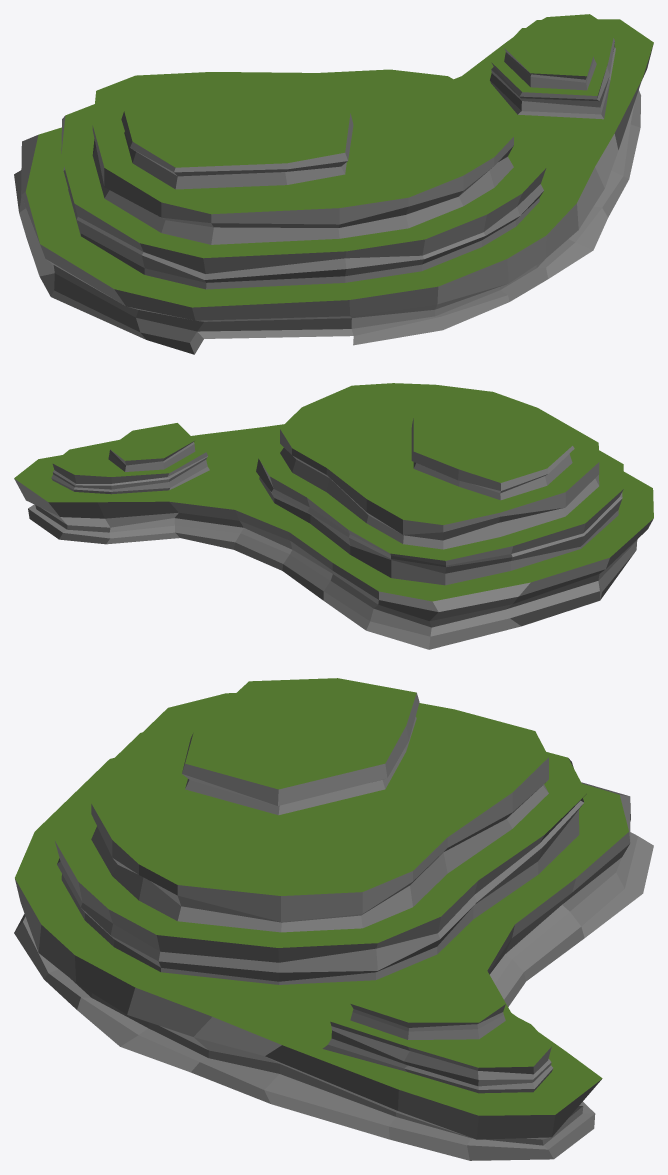
The model's file is ground_element2.fbx.
3 views of the same model, one above another, from view 1: azimuth 30°, elevation 25°; view 2: azimuth 150°, elevation 25°; view 3: azimuth 270°, elevation 25° (orthographic). The views are drawn at different scales.
Visible parts, largest first — view 1: Plane; view 2: Plane; view 3: Plane.
Boxes of the visible parts, x1,y1,x2,y2 form: Plane: [14, 14, 653, 354]; Plane: [14, 383, 653, 649]; Plane: [14, 678, 653, 1160].
Bounding box in the file's own units: 435 × 89.61 × 305.
